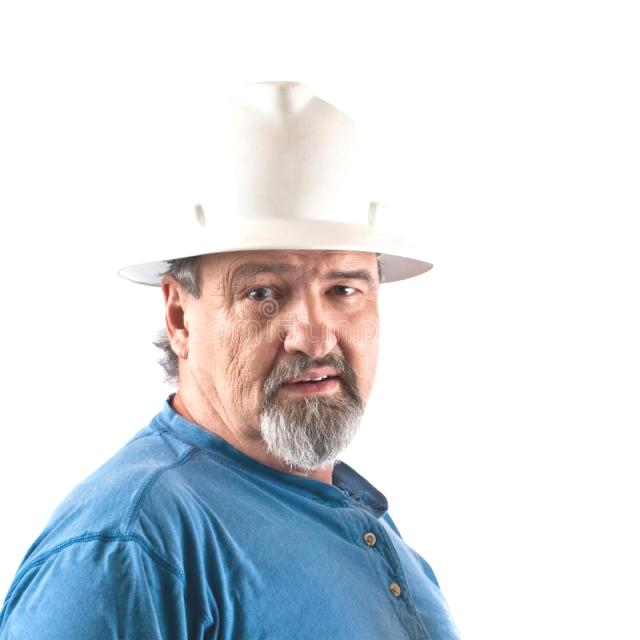face_nomask: (172, 246, 410, 454)
head_helmet: (103, 80, 427, 284)
person: (7, 34, 476, 640)
